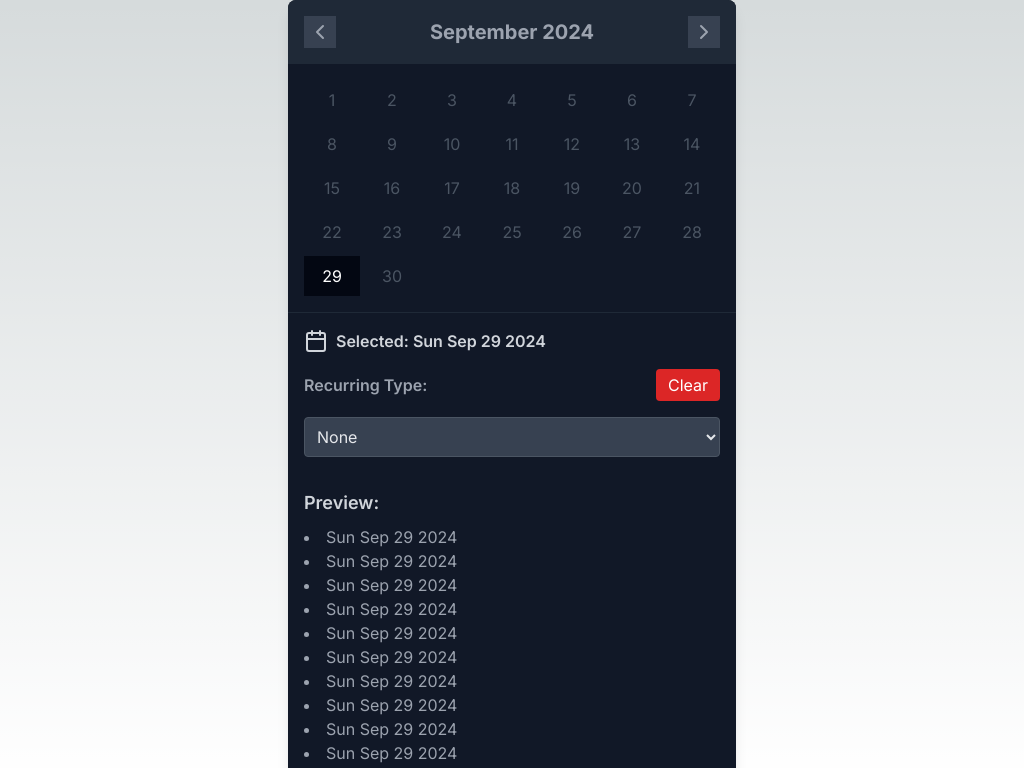
Scenario: RecurringDatePicker › selects a date
Click the text "15" at (332, 188), box [324,178,340,198]
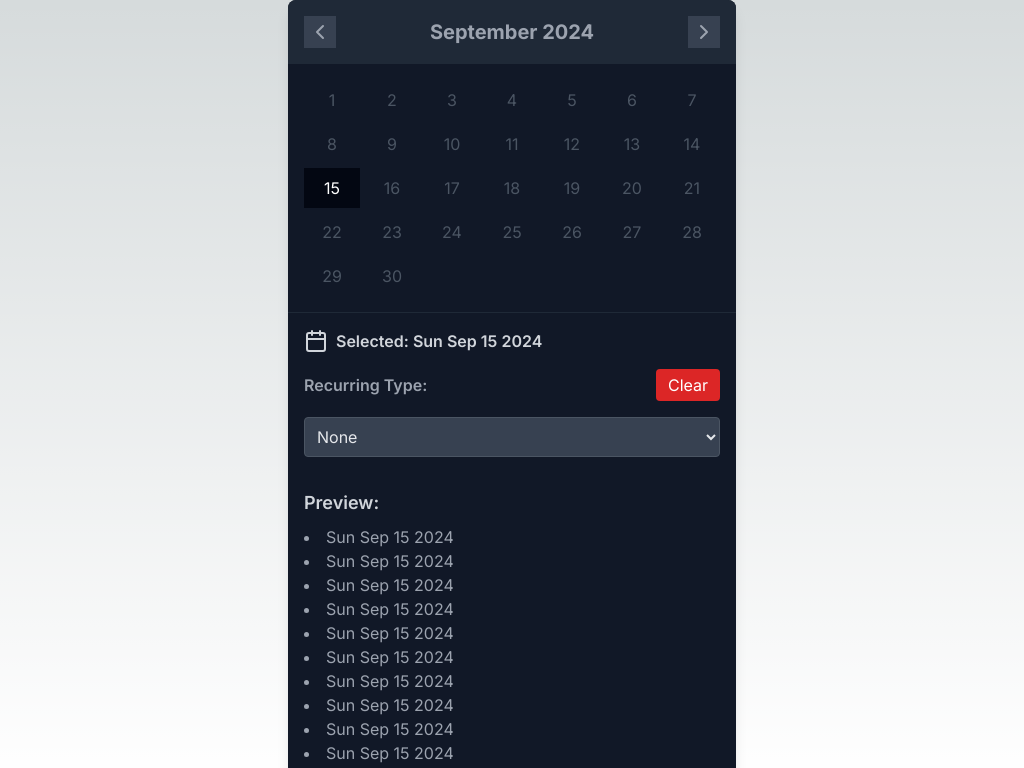
Check: the text "Selected: Sun Sep 15 2024" is shown, box [336,329,542,353]
